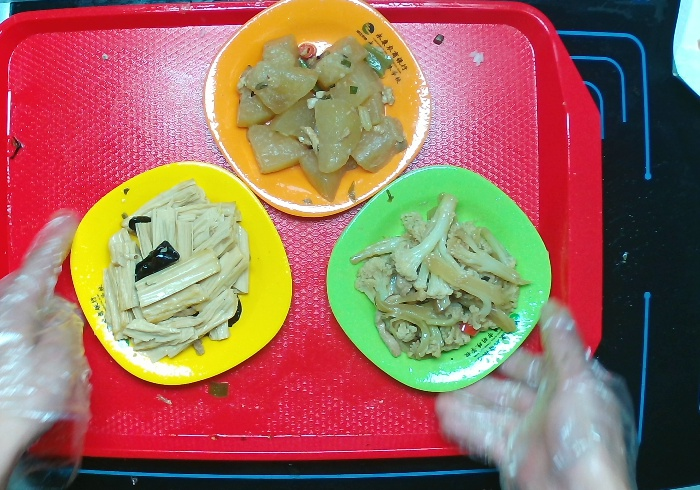YKMZ-Huang_Se_Fang_Die: (69, 160, 294, 387)
YKMZ-Ju_Se_Fang_Die: (202, 1, 433, 219)
YKMZ-Lv_Se_Fang_Die: (325, 162, 553, 394)
